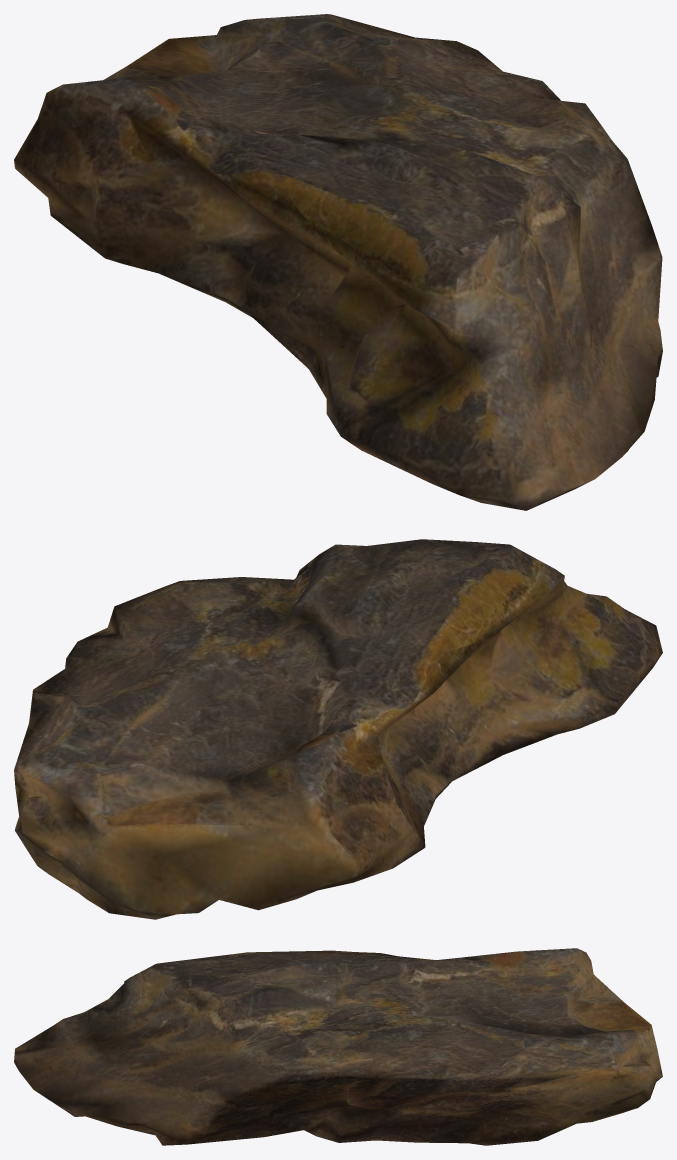
The model's file is rock_09.glb.
The picture shows the model from 3 angles, top to bottom: view 1: azimuth 30°, elevation 25°; view 2: azimuth 150°, elevation 25°; view 3: azimuth 270°, elevation 25°; orthographic projection. The views are drawn at different scales.
Visible parts, largest first — view 1: rock_09_LOD0; view 2: rock_09_LOD0; view 3: rock_09_LOD0.
Part boxes in pixels (box(x1,y1,x2,y2)): rock_09_LOD0: box(14, 14, 662, 510); rock_09_LOD0: box(14, 539, 662, 919); rock_09_LOD0: box(14, 948, 662, 1145).
Size of the model in its own units: 0.0738 by 0.0326 by 0.1442.
1 material, 1 textured.
